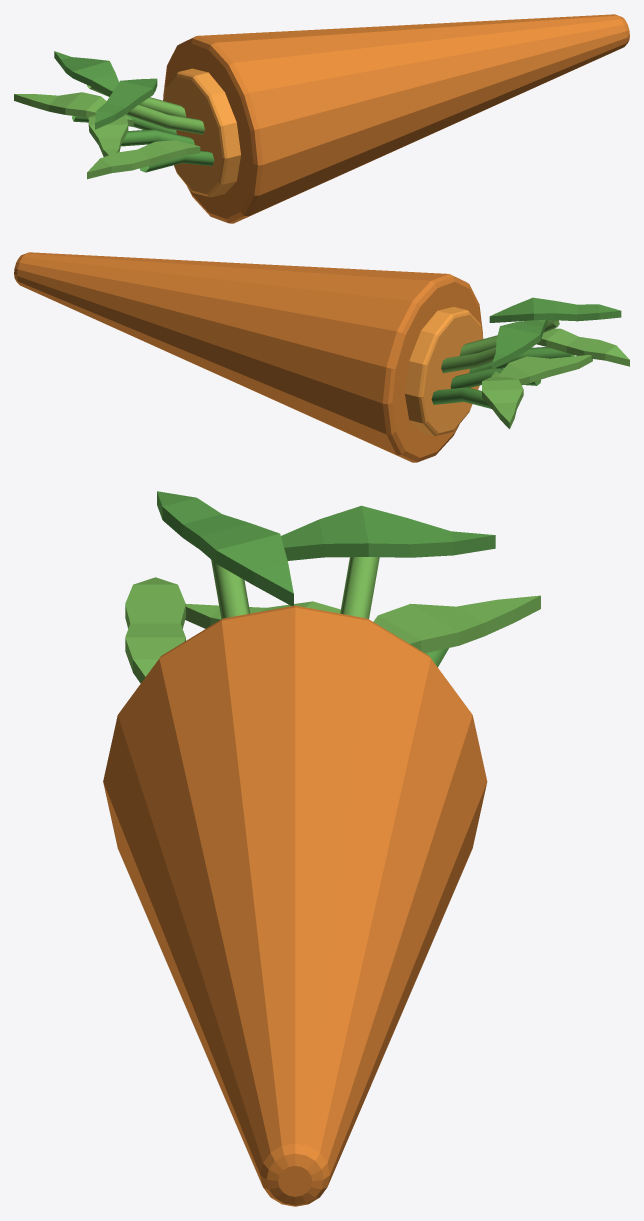
Rendered from carrot.glb.
3 views of the same model, one above another, from view 1: azimuth 30°, elevation 25°; view 2: azimuth 150°, elevation 25°; view 3: azimuth 270°, elevation 25° (orthographic). The views are drawn at different scales.
Parts seen in each view (by area): view 1: carrot_root, carrot_crown, carrot_leaf_0, carrot_leaf_4, carrot_leaf_1, carrot_leaf_3, carrot_stem_1, carrot_leaf_2, carrot_stem_2, carrot_stem_0, carrot_stem_3, carrot_stem_4; view 2: carrot_root, carrot_crown, carrot_leaf_1, carrot_leaf_0, carrot_leaf_2, carrot_leaf_3, carrot_leaf_4, carrot_stem_4, carrot_stem_3, carrot_stem_2, carrot_stem_0, carrot_stem_1; view 3: carrot_root, carrot_leaf_3, carrot_leaf_1, carrot_leaf_4, carrot_leaf_0, carrot_stem_3, carrot_stem_1, carrot_leaf_2.
Boxes of the visible parts, x1,y1,x2,y2 form: carrot_root: [163, 14, 629, 223]; carrot_crown: [163, 68, 240, 197]; carrot_leaf_0: [87, 140, 200, 179]; carrot_leaf_4: [14, 92, 133, 126]; carrot_leaf_1: [95, 78, 157, 129]; carrot_leaf_3: [54, 51, 118, 96]; carrot_stem_1: [126, 104, 204, 134]; carrot_leaf_2: [88, 115, 128, 156]; carrot_stem_2: [121, 129, 194, 146]; carrot_stem_0: [139, 150, 214, 172]; carrot_stem_3: [87, 85, 186, 117]; carrot_stem_4: [72, 114, 176, 134]; carrot_root: [14, 252, 482, 462]; carrot_crown: [405, 307, 483, 436]; carrot_leaf_1: [489, 297, 621, 322]; carrot_leaf_0: [536, 328, 629, 366]; carrot_leaf_2: [498, 355, 592, 385]; carrot_leaf_3: [492, 319, 548, 369]; carrot_leaf_4: [482, 371, 523, 429]; carrot_stem_4: [431, 387, 491, 408]; carrot_stem_3: [441, 347, 495, 373]; carrot_stem_2: [450, 368, 540, 388]; carrot_stem_0: [469, 347, 574, 372]; carrot_stem_1: [459, 320, 559, 355]; carrot_root: [103, 605, 487, 1206]; carrot_leaf_3: [281, 505, 495, 560]; carrot_leaf_1: [157, 491, 293, 605]; carrot_leaf_4: [373, 595, 540, 653]; carrot_leaf_0: [125, 577, 185, 683]; carrot_stem_3: [340, 557, 379, 618]; carrot_stem_1: [211, 559, 250, 619]; carrot_leaf_2: [185, 601, 340, 628].
Size of the model in its own units: 0.53 by 0.154 by 0.1754.
